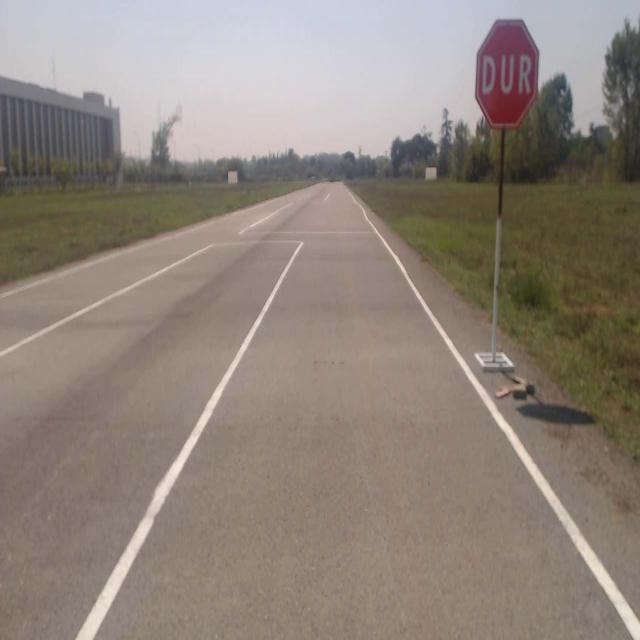dur: (477, 22, 539, 126)
